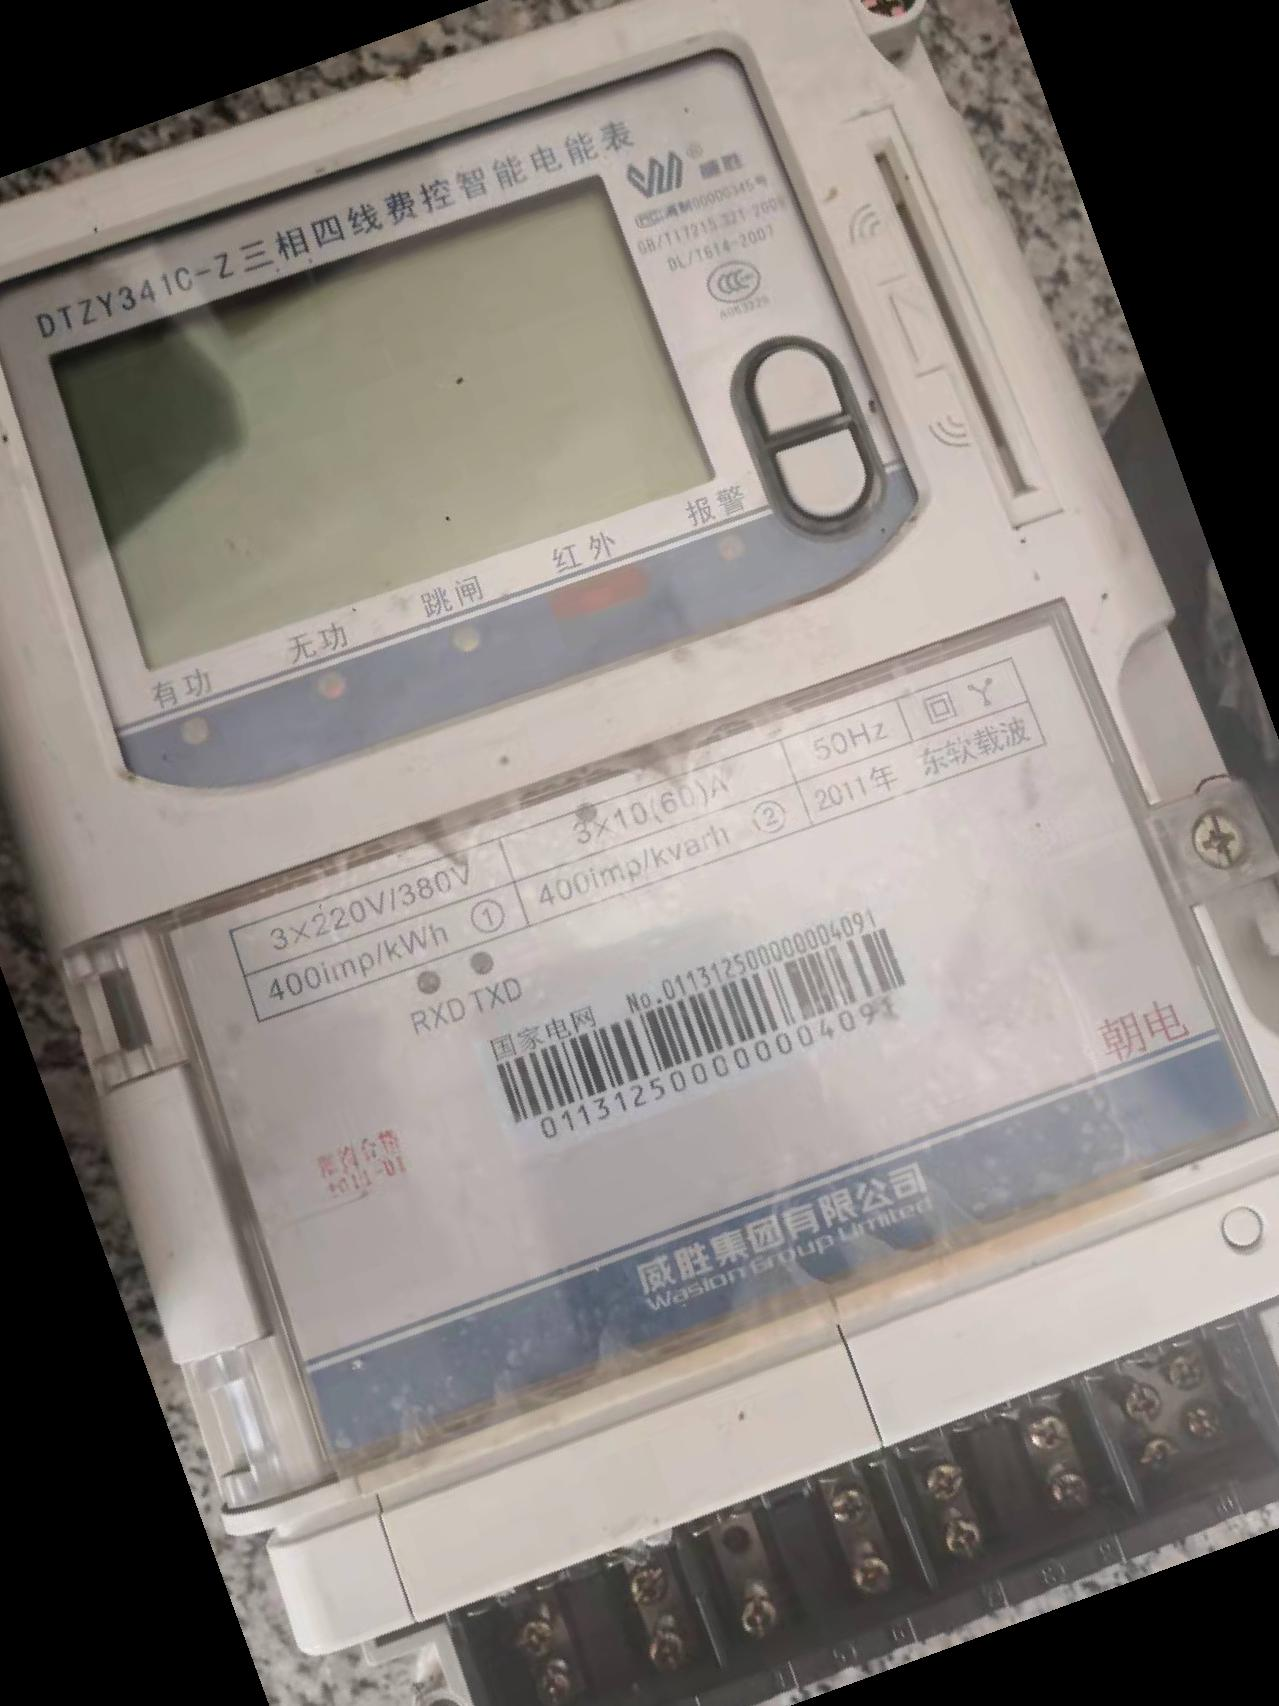digital: (1, 1, 1278, 1531)
